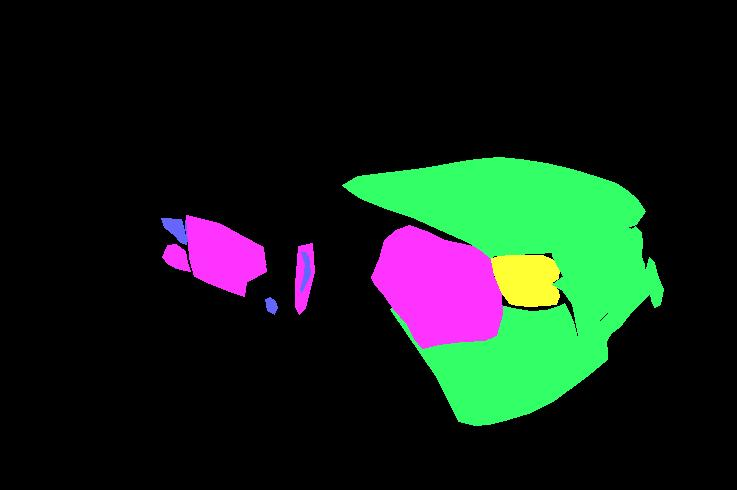Broken part: (390, 257, 663, 425), (342, 157, 645, 258), (551, 226, 644, 335)
Cracked: (488, 255, 559, 306)
Dent: (371, 225, 502, 348), (515, 183, 632, 246), (186, 215, 266, 296), (295, 243, 314, 314), (162, 244, 190, 271)
Scratch: (185, 220, 266, 268), (161, 218, 186, 244), (300, 252, 310, 292), (265, 297, 277, 314), (169, 255, 181, 268)
